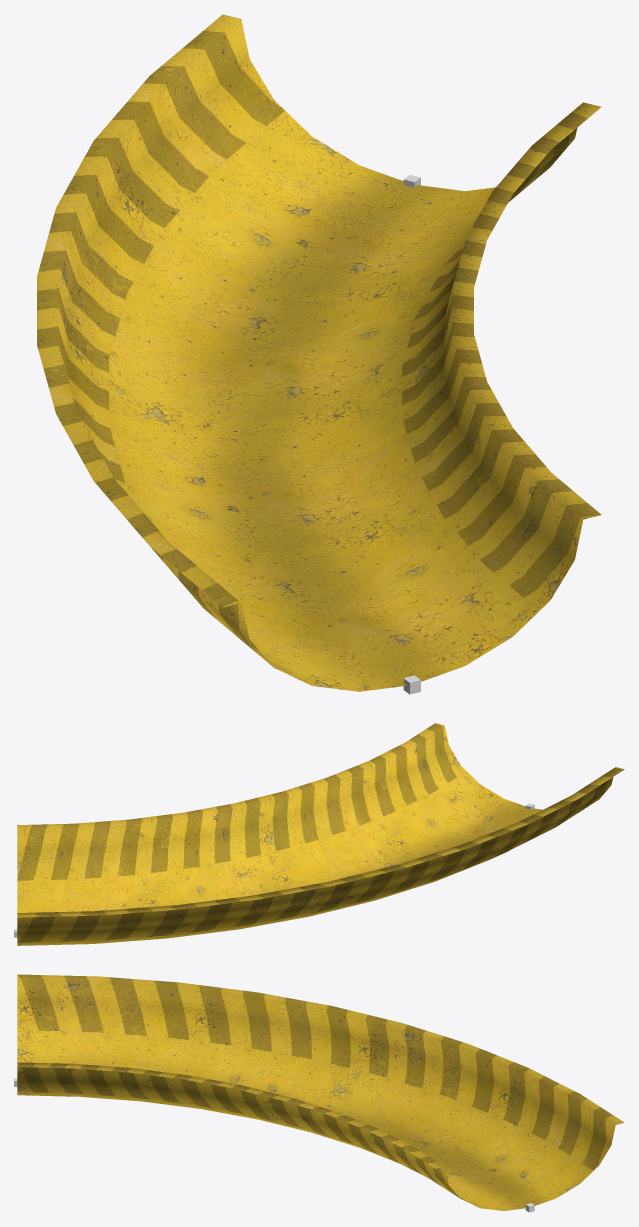
The model's file is roadBend60.R.fbx.
3 views of the same model, one above another, from view 1: azimuth 30°, elevation 25°; view 2: azimuth 150°, elevation 25°; view 3: azimuth 270°, elevation 25° (orthographic). The views are drawn at different scales.
Visible parts, largest first — view 1: MESH roadBend60.R; view 2: MESH roadBend60.R; view 3: MESH roadBend60.R.
Boxes of the visible parts, x1=… form: MESH roadBend60.R: x1=37, y1=14, x2=601, y2=691; MESH roadBend60.R: x1=17, y1=723, x2=624, y2=945; MESH roadBend60.R: x1=17, y1=974, x2=624, y2=1210.
Size of what is drawn, in the model's own units: 3562 by 553 by 4728.
